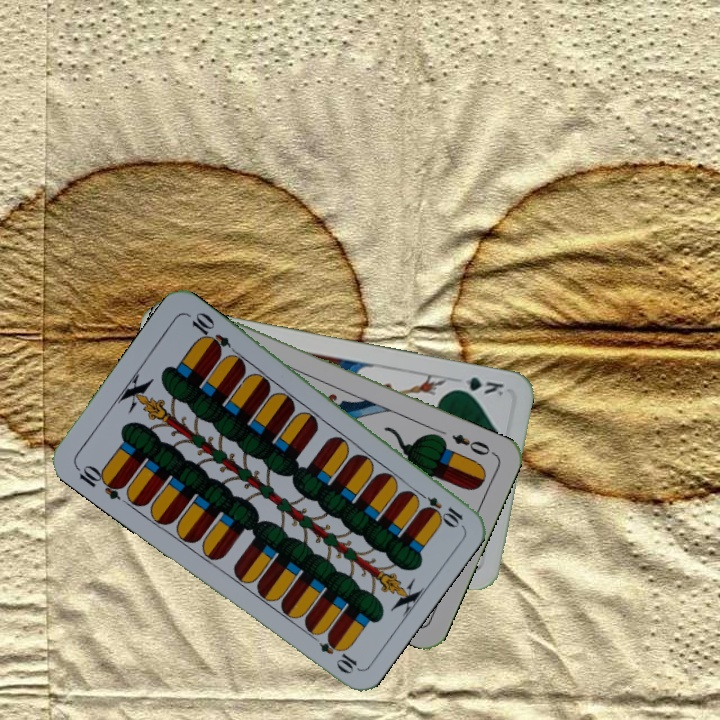E10: (71, 460, 127, 503), (412, 487, 466, 529)
EO: (447, 430, 498, 458)
GK: (449, 372, 506, 399)
